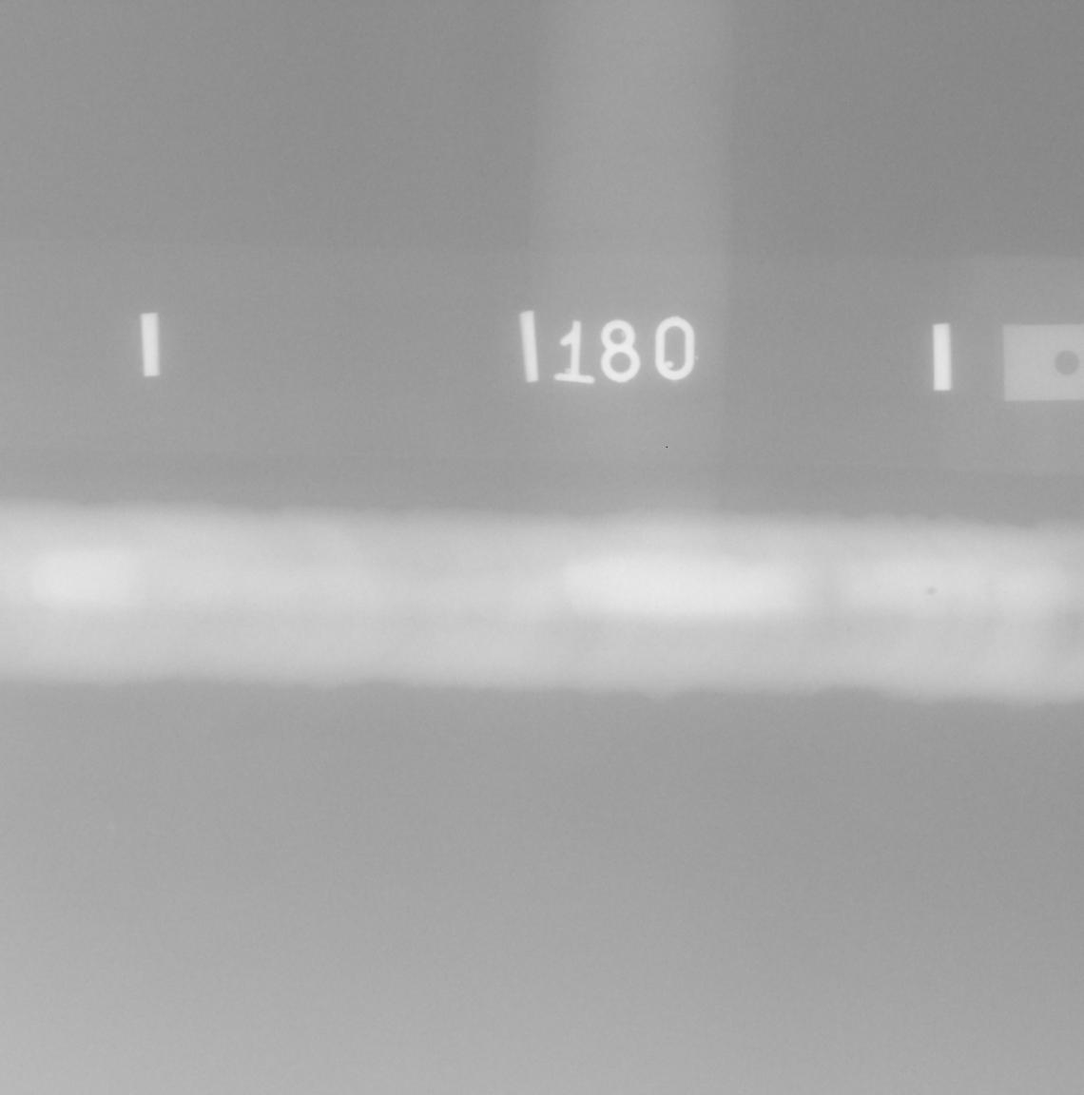Pore/Porosity: (927, 586, 936, 595), (877, 586, 883, 589), (847, 626, 850, 631)
